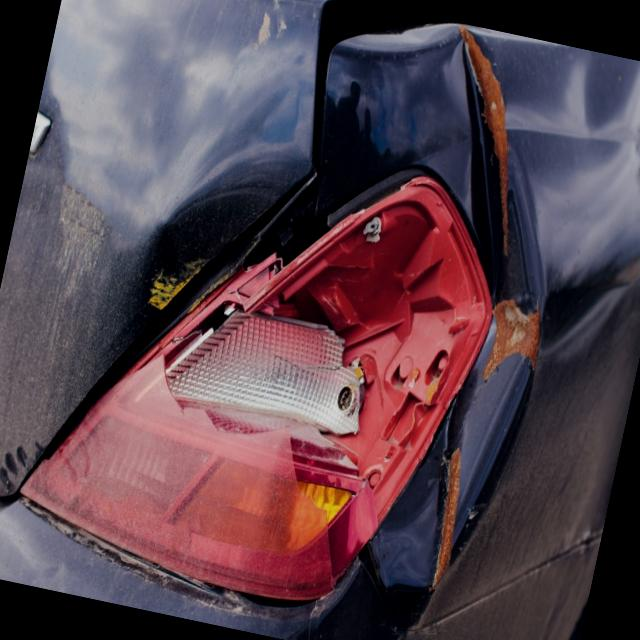Dechirure: (230, 36, 574, 596)
Phare abime: (128, 96, 523, 547)
Rayure: (340, 23, 623, 629), (132, 225, 245, 344)
